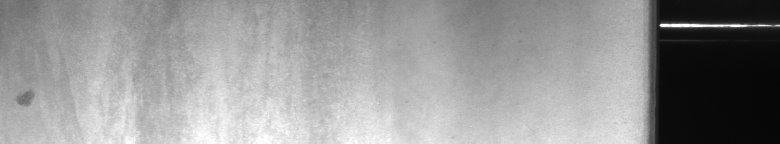fi: (15, 84, 36, 112)
